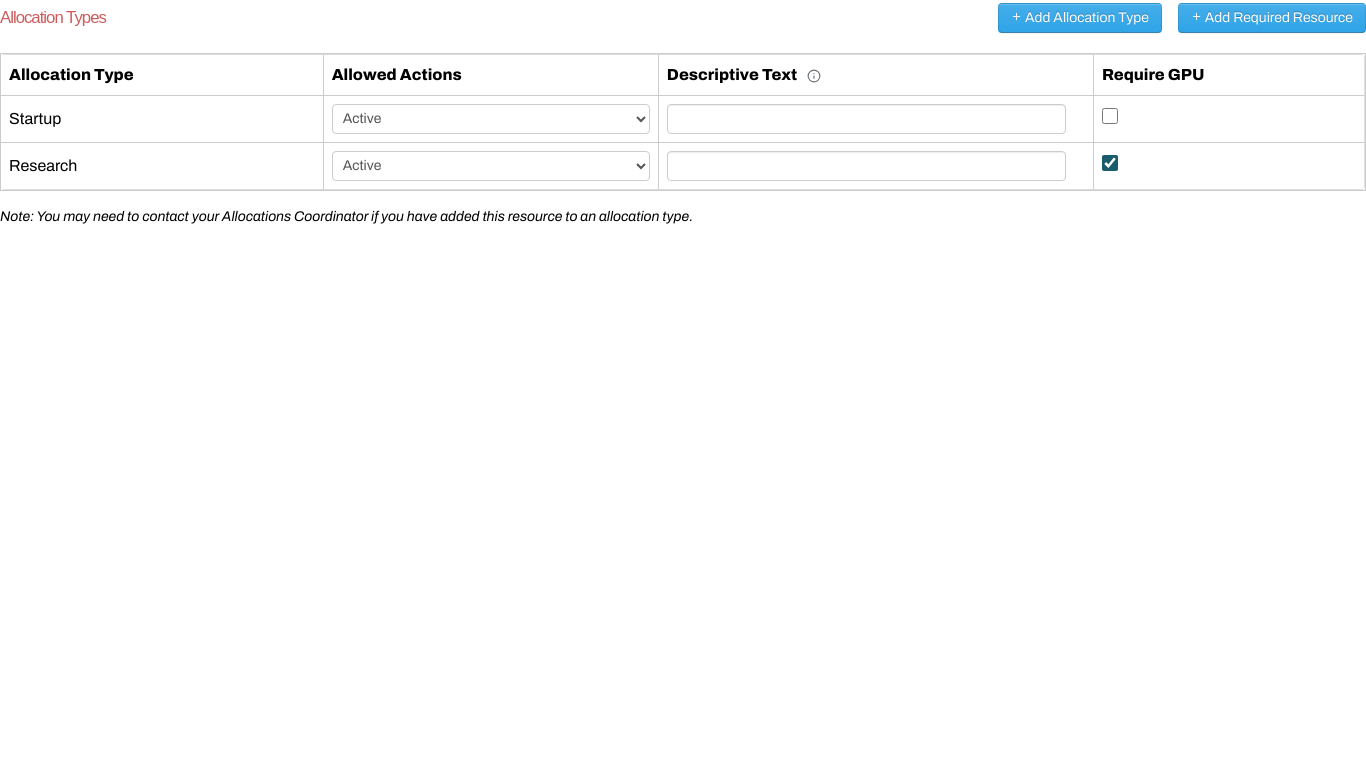
AllocationTypesSection - required resource columns › checks a resource in the modal when it has a column, however many types require it
This screenshot has width=1366, height=768.
Click the button "Add Required Resource" at point(1272, 18), box [1178,3,1365,33]
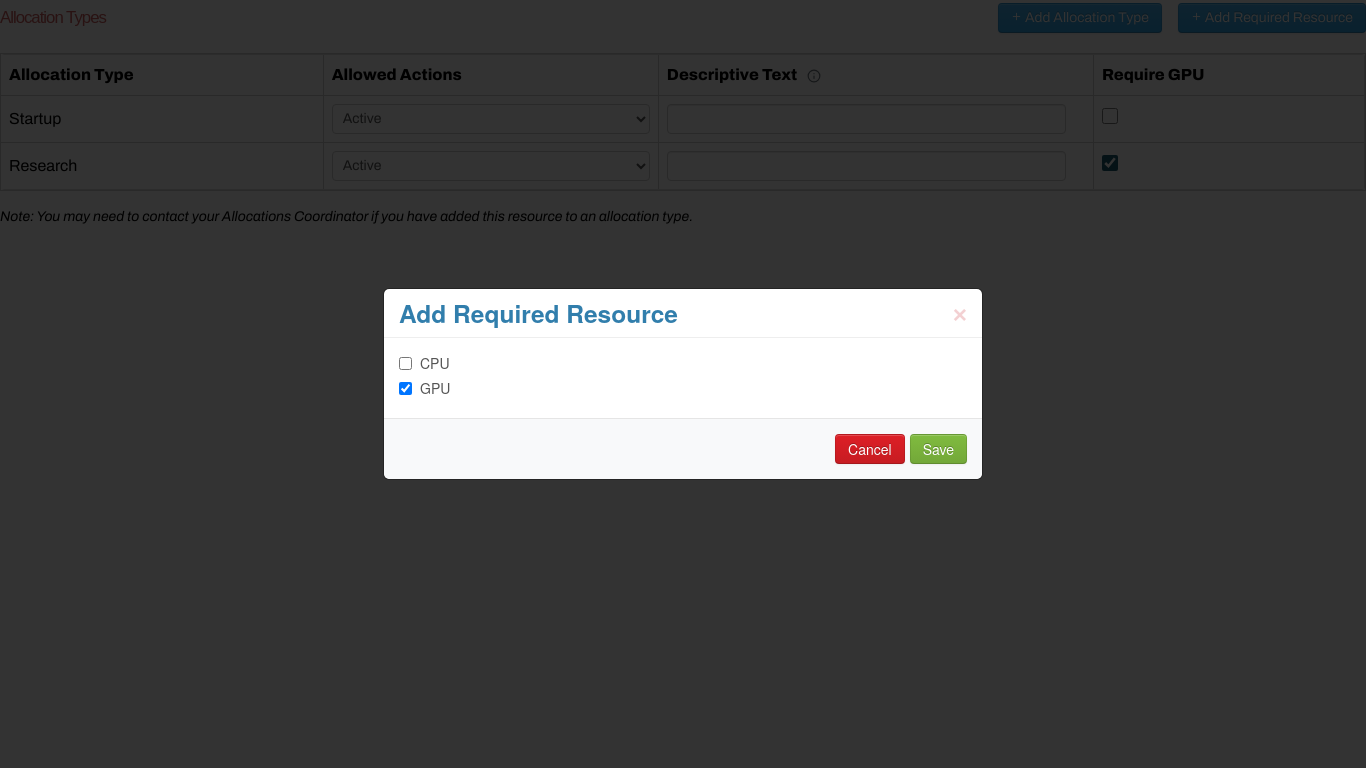
Result: the checkbox labelled "GPU" is checked at [399,382,412,394]
Result: the checkbox labelled "CPU" is not checked at [399,356,412,370]
